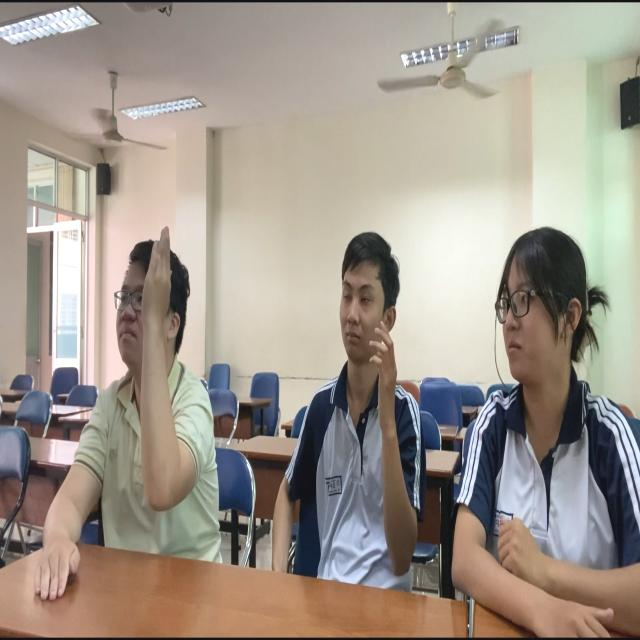raise_hand: (27, 225, 224, 600)
